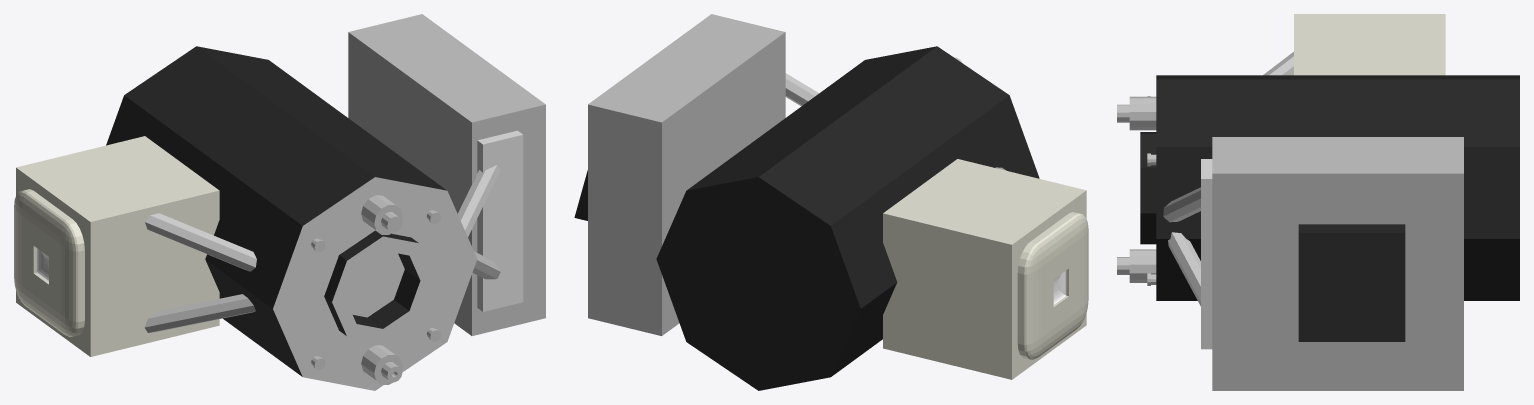
File: rover-sherloc.glb
3 renders of one model, left to right at view 1: azimuth 30°, elevation 25°; view 2: azimuth 150°, elevation 25°; view 3: azimuth 270°, elevation 25°, orthographic.
Visible parts, largest first — view 1: Cube; view 2: Cube; view 3: Cube.
Boxes of the visible parts, left/top/right/bottom form: Cube: left=14, top=14, right=545, bottom=390; Cube: left=574, top=14, right=1088, bottom=390; Cube: left=1117, top=14, right=1519, bottom=390.
Size of the model in its own units: 0.6236 by 0.2767 by 0.4556.
1 material, 1 textured.
